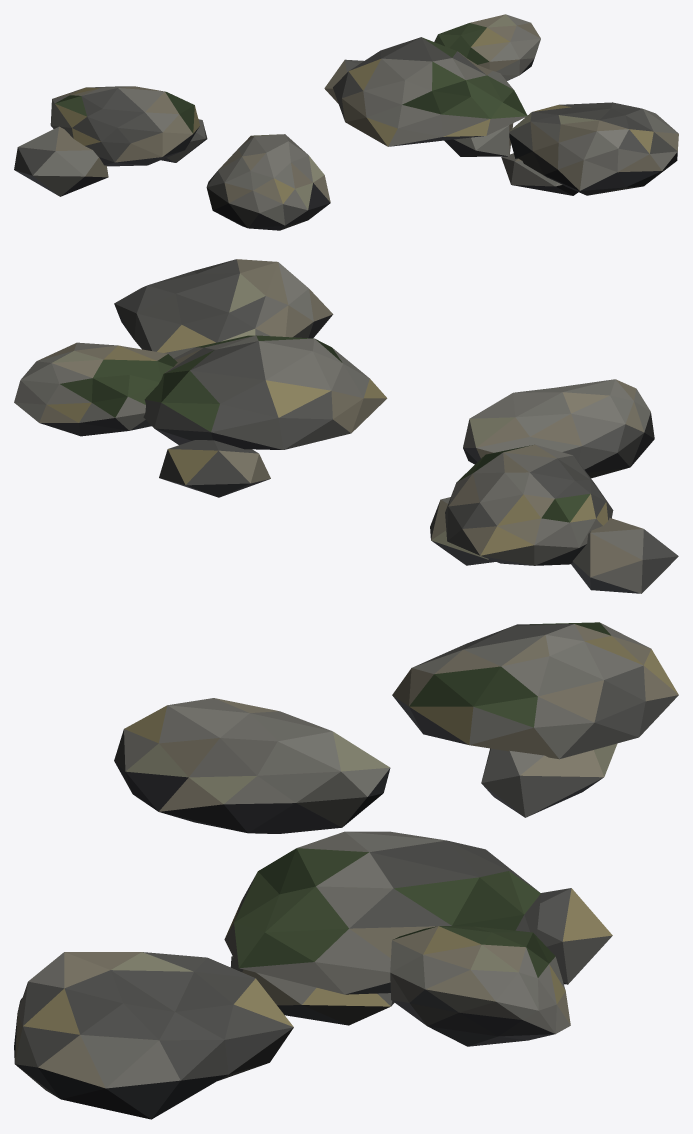
The model's file is bank-stones-2.glb.
3 renders of one model, top to bottom at view 1: azimuth 30°, elevation 25°; view 2: azimuth 150°, elevation 25°; view 3: azimuth 270°, elevation 25°, orthographic. The views are drawn at different scales.
Visible parts, largest first — view 1: bank-stones; view 2: bank-stones; view 3: bank-stones.
Part boxes in pixels (x1=…): bank-stones: x1=14, y1=14, x2=678, y2=230; bank-stones: x1=14, y1=259, x2=678, y2=593; bank-stones: x1=14, y1=622, x2=678, y2=1119.
Size of the model in its own units: 2.92 by 0.5263 by 1.85.
